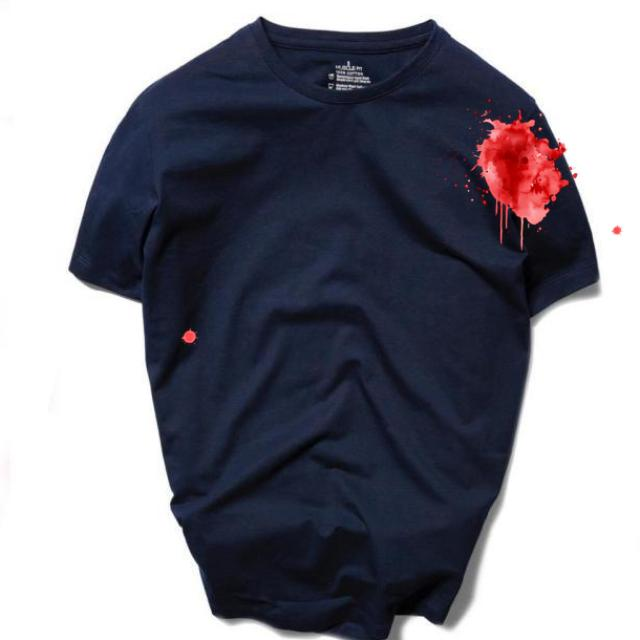stain: (451, 110, 575, 250), (180, 324, 202, 353)
